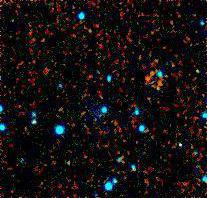star: (140, 60, 170, 90)
